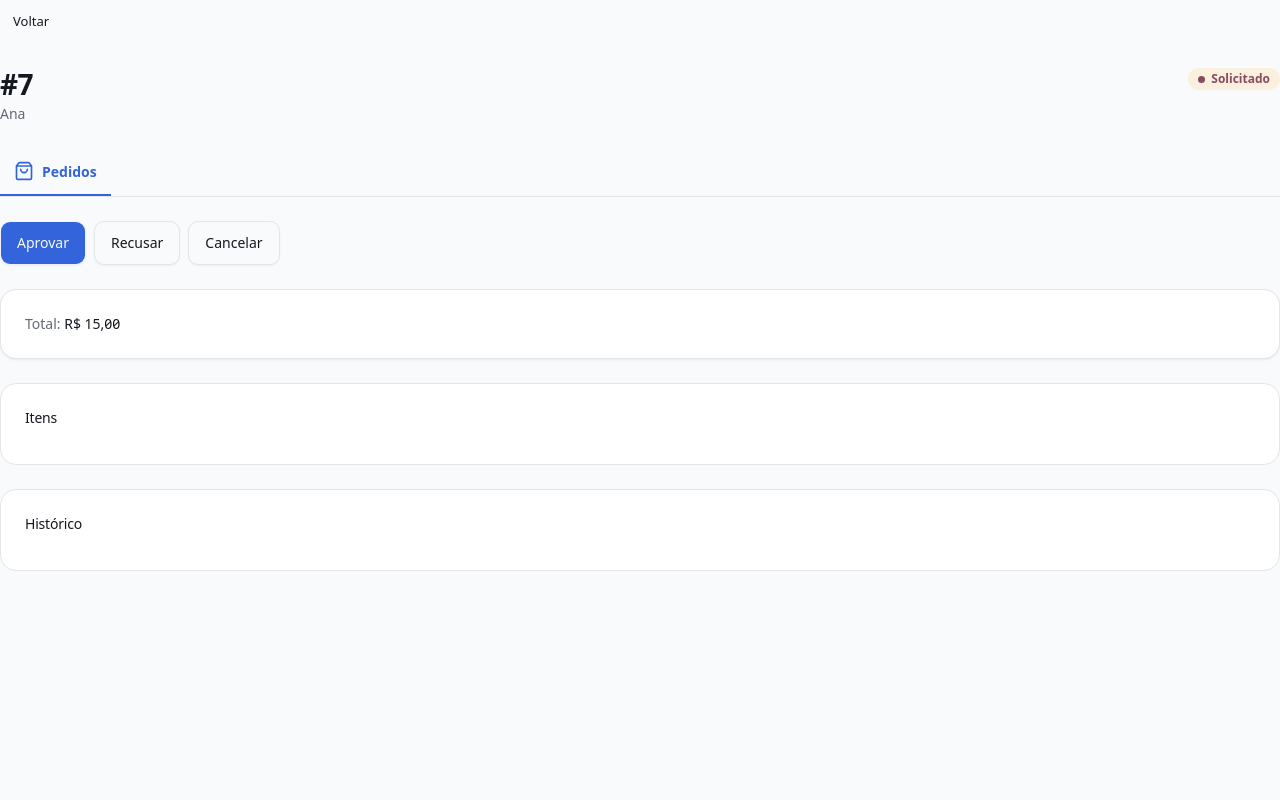
Test: staff order detail › localizes invalid reasons in pt-BR
Click the button "Recusar" at (137, 243), box [94, 221, 180, 265]
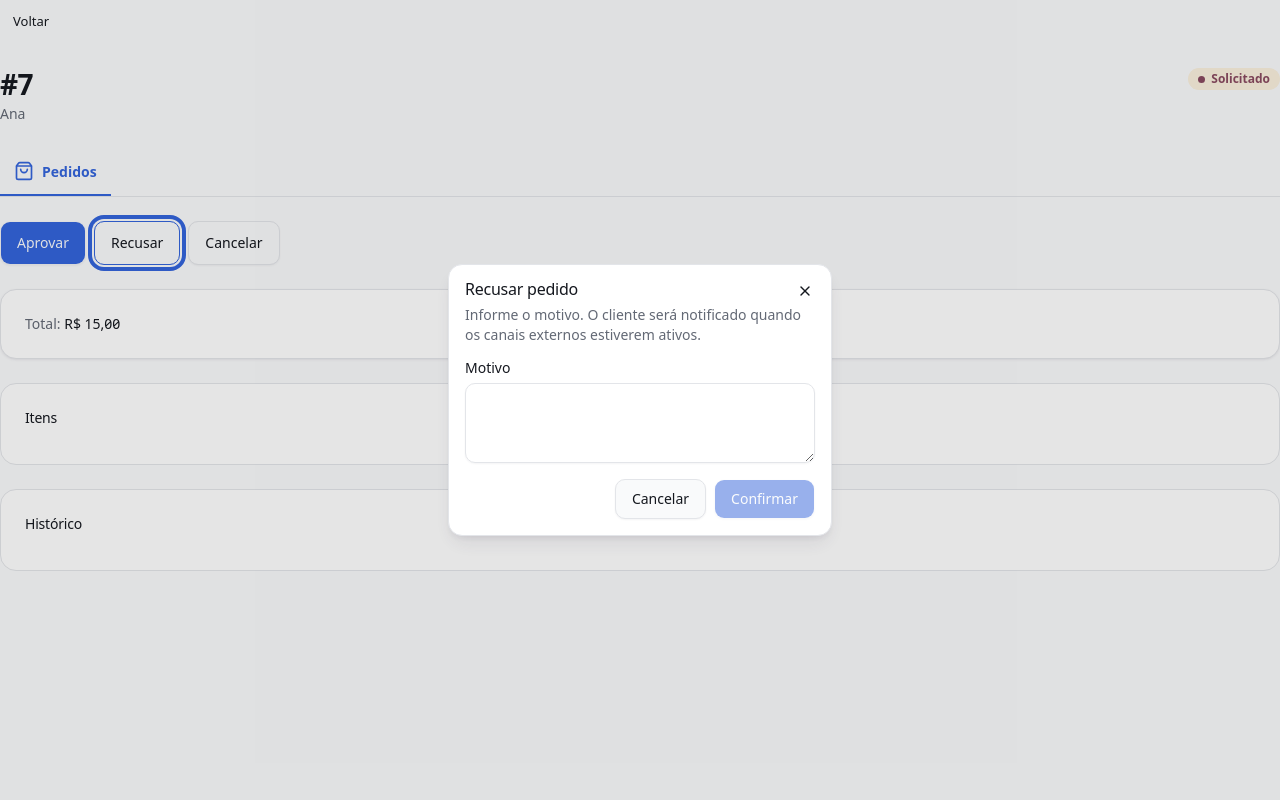
Submit the form, box [465, 361, 815, 519]
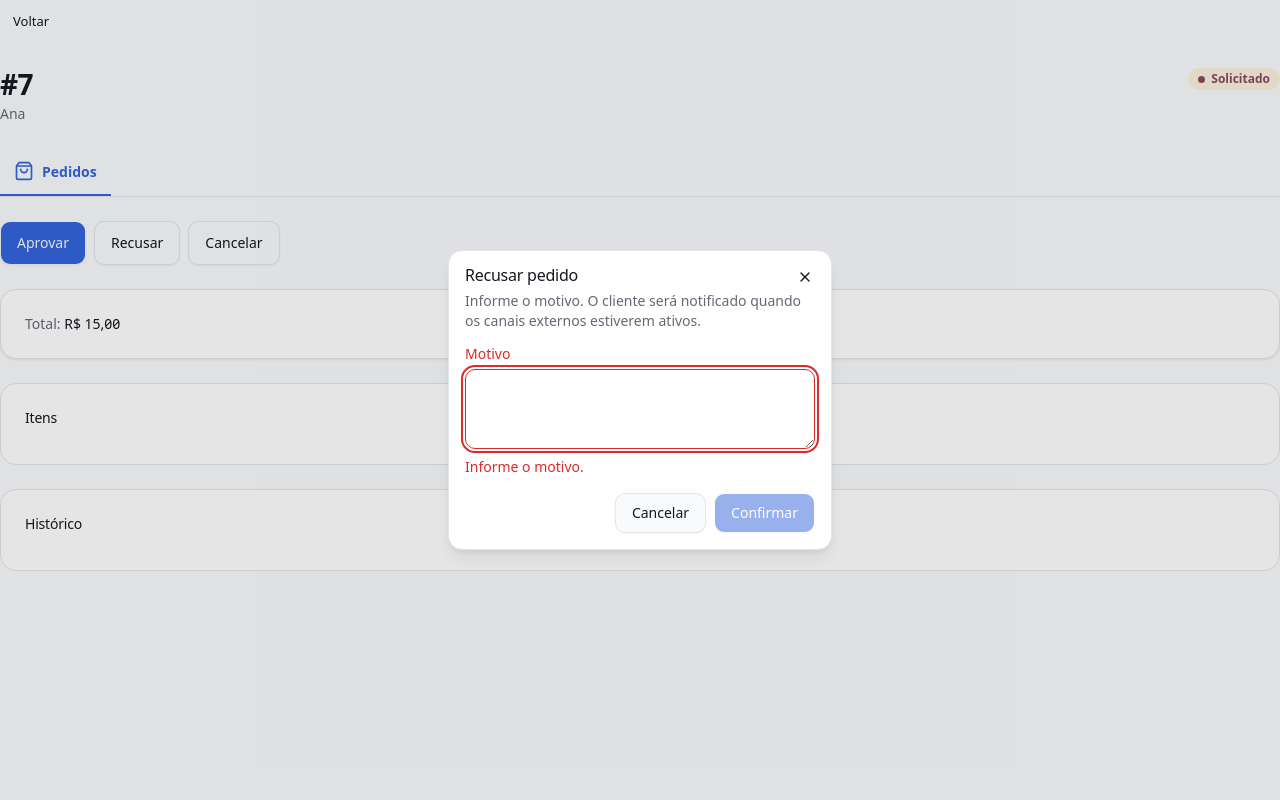
Check: the text "Informe o motivo." is shown, box [465, 457, 584, 476]
